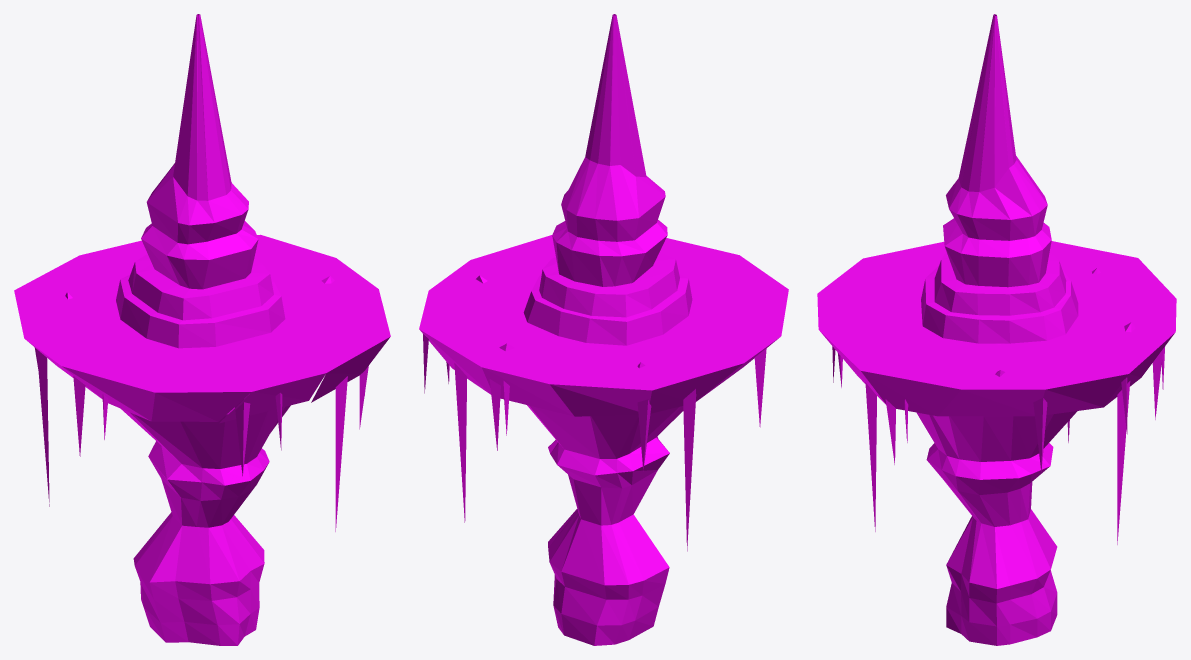
Rendered from cave platform small.obj.
3 views of the same model, side by side, from view 1: azimuth 30°, elevation 25°; view 2: azimuth 150°, elevation 25°; view 3: azimuth 270°, elevation 25° (orthographic).
Visible parts, largest first — view 1: cave platform small_back; view 2: cave platform small_back; view 3: cave platform small_back.
Boxes of the visible parts, <box> form: cave platform small_back: <box>14,14,390,645</box>; cave platform small_back: <box>419,14,788,645</box>; cave platform small_back: <box>817,14,1176,645</box>.
Bounding box in the file's own units: 8.98 × 16.7 × 8.98.
